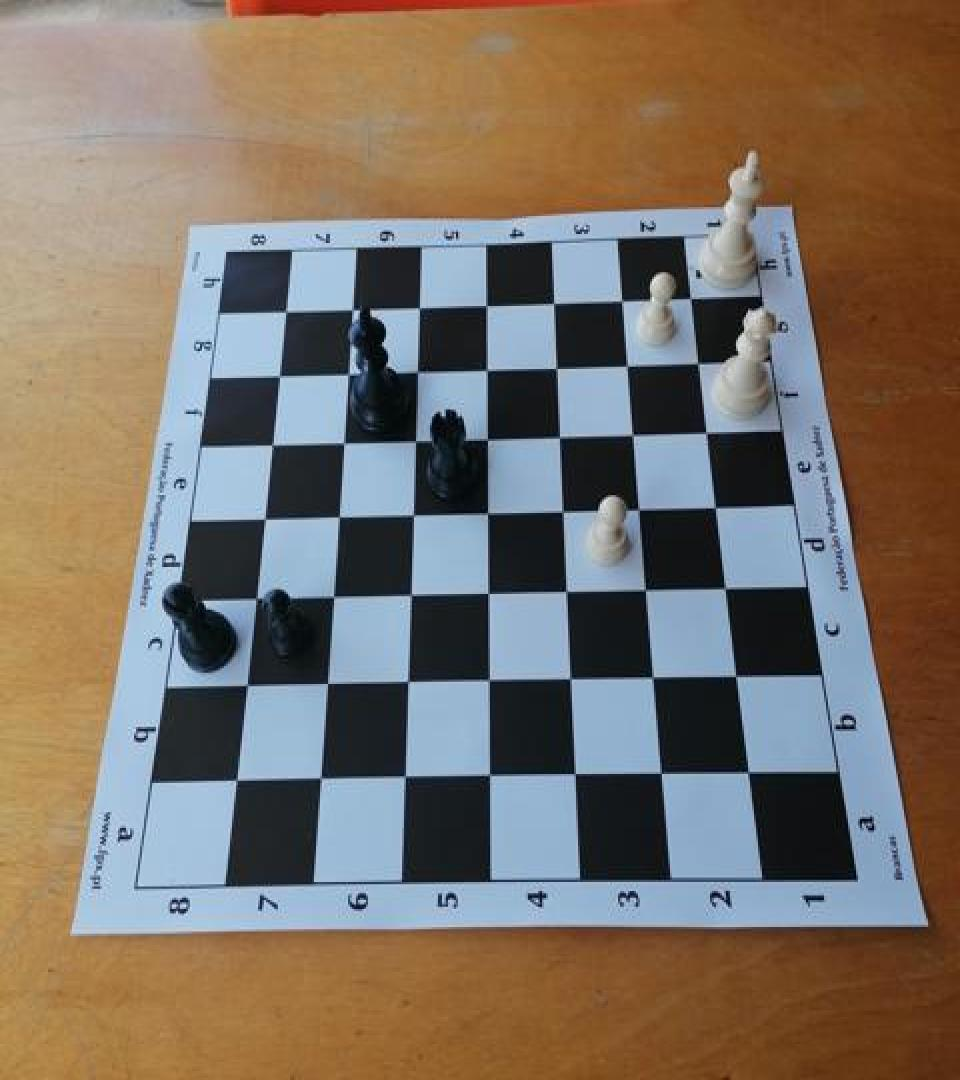xcorner: (218, 766, 248, 800), (303, 765, 333, 799), (388, 762, 418, 796), (474, 762, 504, 796), (560, 760, 590, 794), (647, 758, 677, 792), (735, 757, 765, 791), (228, 670, 258, 704), (309, 668, 339, 702), (391, 667, 421, 701), (473, 665, 503, 699), (639, 662, 669, 696), (723, 660, 753, 694), (238, 582, 268, 616), (315, 580, 345, 614), (393, 579, 423, 613), (472, 577, 502, 611), (551, 575, 581, 609), (631, 572, 661, 606), (712, 572, 742, 606), (246, 502, 276, 536), (396, 498, 426, 532), (472, 496, 502, 530), (548, 494, 578, 528), (624, 492, 654, 526), (701, 489, 731, 523), (254, 428, 284, 462), (326, 425, 356, 459), (398, 423, 428, 457), (544, 418, 574, 452), (618, 416, 648, 450), (692, 414, 722, 448), (262, 359, 292, 393), (331, 356, 361, 390), (400, 354, 430, 388), (470, 351, 500, 385), (541, 348, 571, 382), (612, 346, 642, 380), (683, 344, 713, 378), (269, 294, 299, 328), (402, 289, 432, 323), (470, 287, 500, 321), (538, 284, 568, 318), (606, 281, 636, 315), (675, 279, 705, 313), (556, 664, 586, 697), (321, 501, 351, 534), (471, 421, 501, 454), (335, 293, 365, 326)
